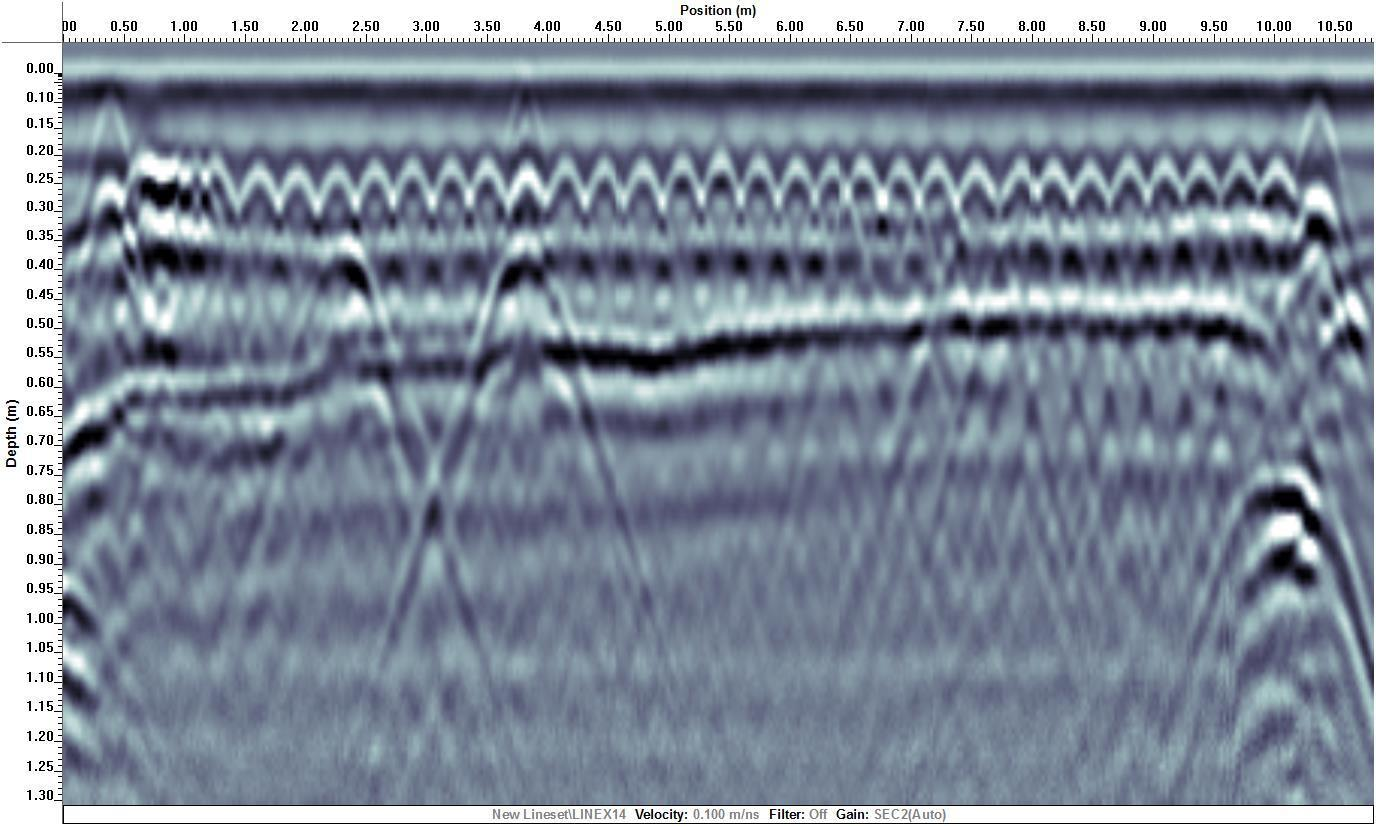hyperbola: (1296, 104, 1349, 280), (78, 100, 131, 276), (915, 152, 957, 272), (954, 152, 996, 272), (995, 152, 1037, 272), (1031, 150, 1073, 270), (1066, 150, 1108, 270), (1109, 148, 1151, 268), (1141, 146, 1183, 266), (1183, 144, 1225, 264), (1218, 143, 1260, 263), (1259, 143, 1301, 263), (850, 151, 892, 270), (877, 152, 919, 271), (317, 155, 355, 275), (355, 154, 393, 274), (401, 152, 439, 272), (435, 150, 473, 270), (471, 149, 509, 269), (510, 148, 548, 268), (547, 146, 585, 266), (785, 153, 823, 273), (580, 143, 618, 263), (621, 147, 659, 267), (665, 151, 703, 271), (700, 151, 738, 271), (741, 151, 779, 271)
